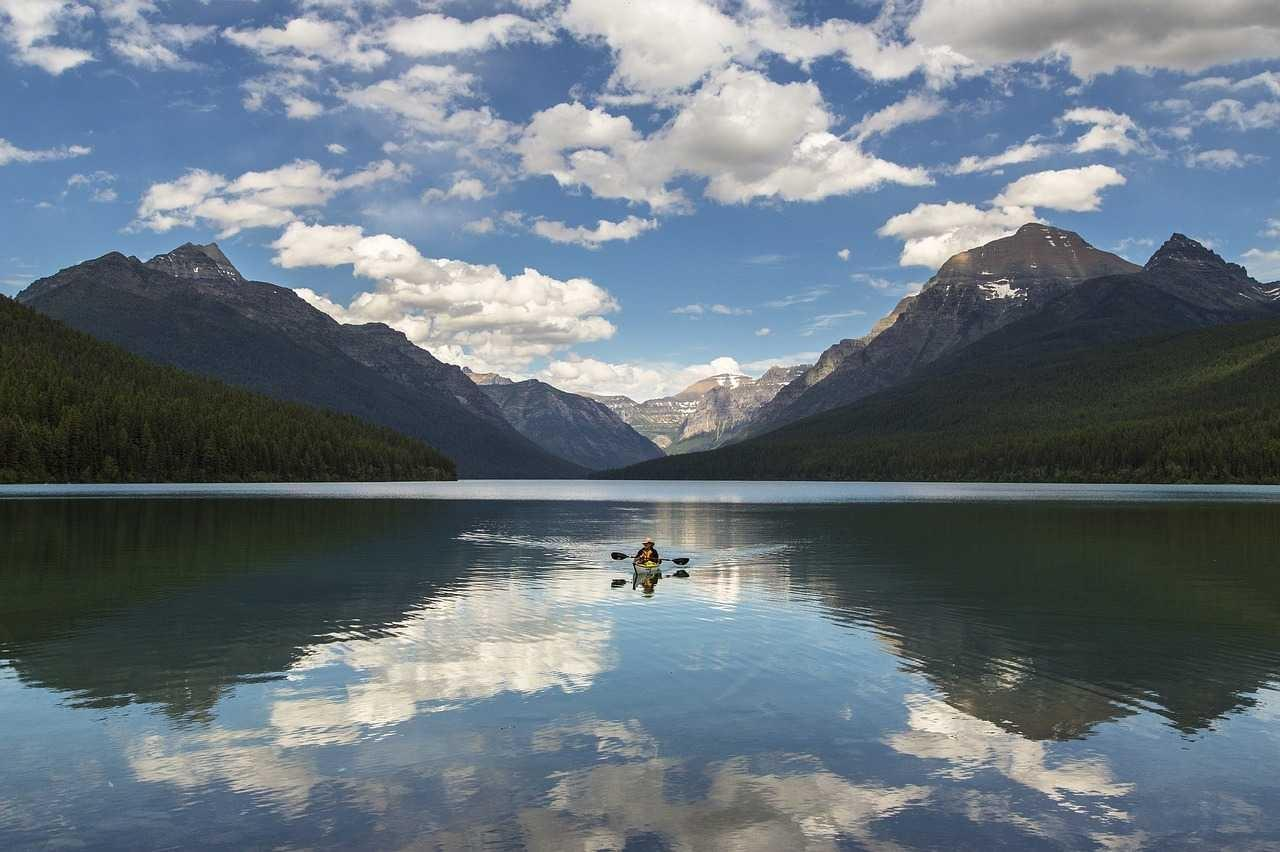kayak: (629, 556, 691, 579)
